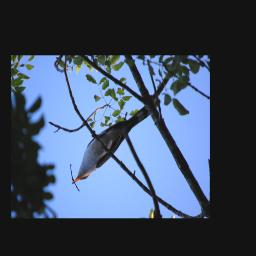Cuckoo: (70, 108, 150, 186)
